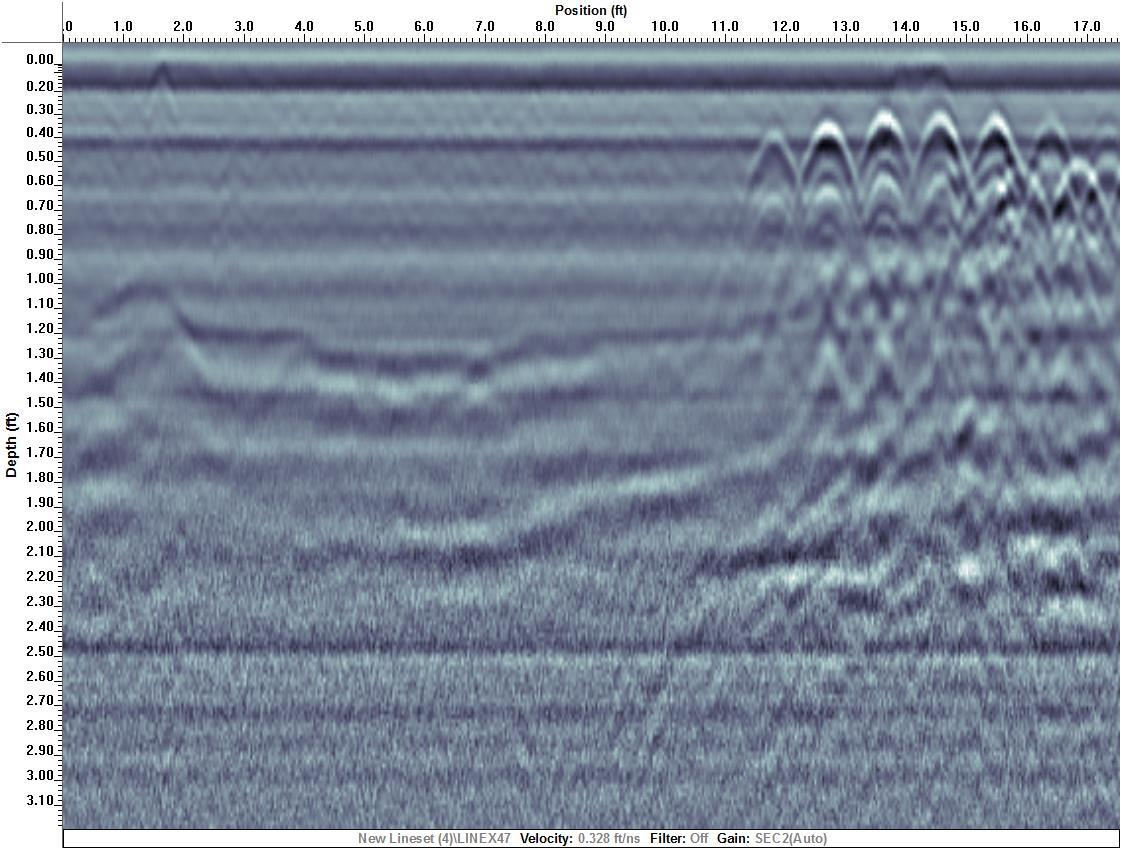hyperbola: (847, 94, 920, 208), (789, 106, 863, 218), (904, 99, 974, 198), (963, 100, 1026, 201)
